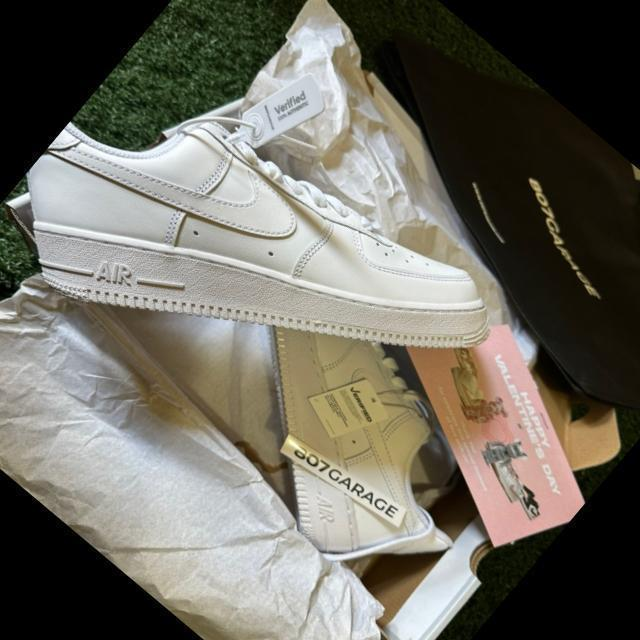nike original air force: (0, 13, 514, 525)
